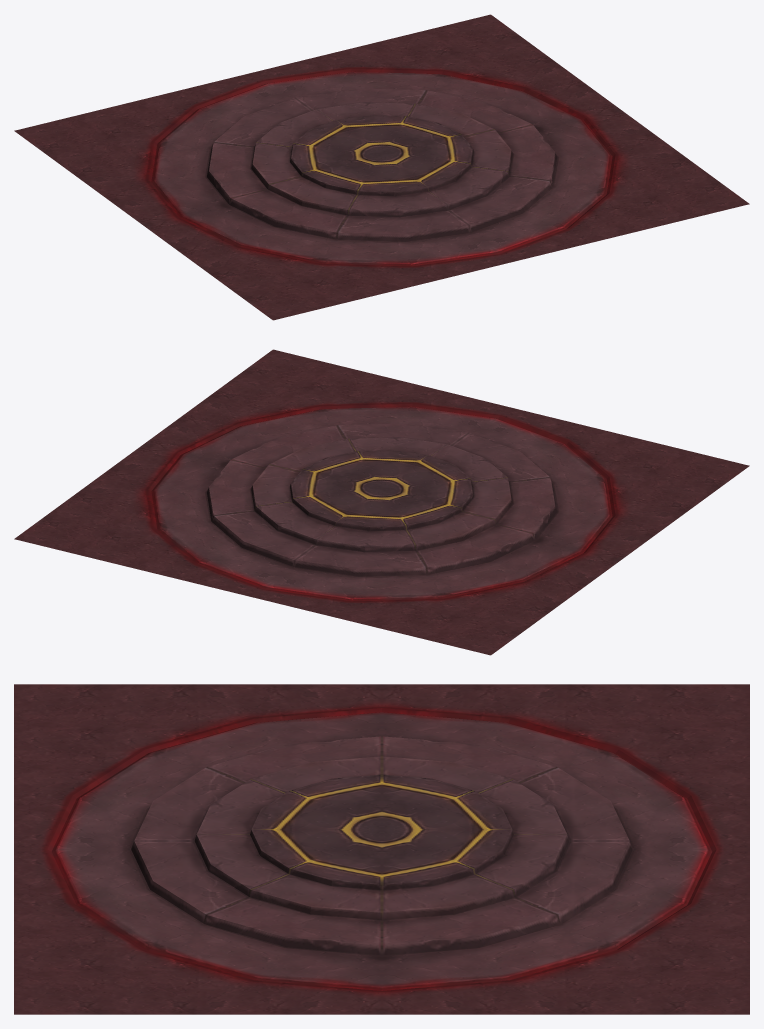
The model's file is dimian.FBX.
3 views of the same model, one above another, from view 1: azimuth 30°, elevation 25°; view 2: azimuth 150°, elevation 25°; view 3: azimuth 270°, elevation 25° (orthographic). The views are drawn at different scales.
Visible parts, largest first — view 1: Object03; view 2: Object03; view 3: Object03.
Part boxes in pixels (bbox=[...]): Object03: bbox=[14, 14, 749, 320]; Object03: bbox=[14, 349, 749, 655]; Object03: bbox=[14, 684, 749, 1014].
Size of what is drawn, in the model's own units: 984 by 926 by 30.86.
